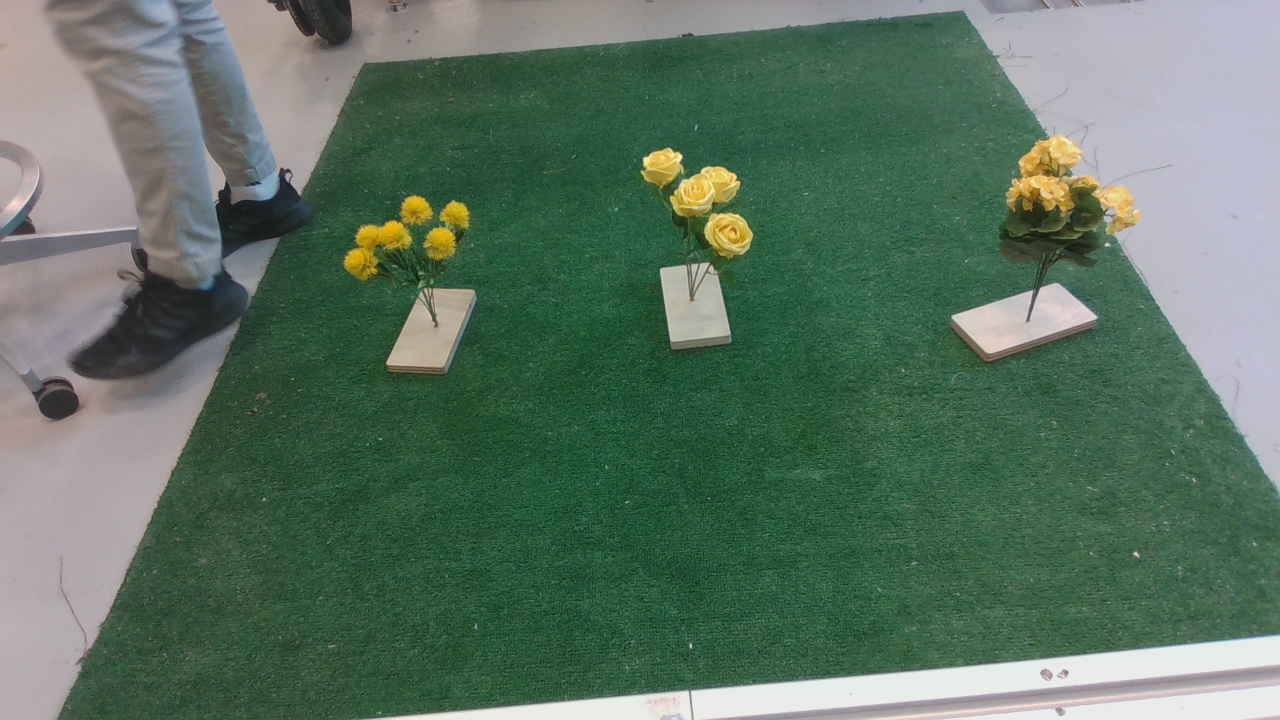dandelion: (344, 195, 483, 306)
geranium: (995, 136, 1151, 283)
rose: (638, 143, 763, 279)
